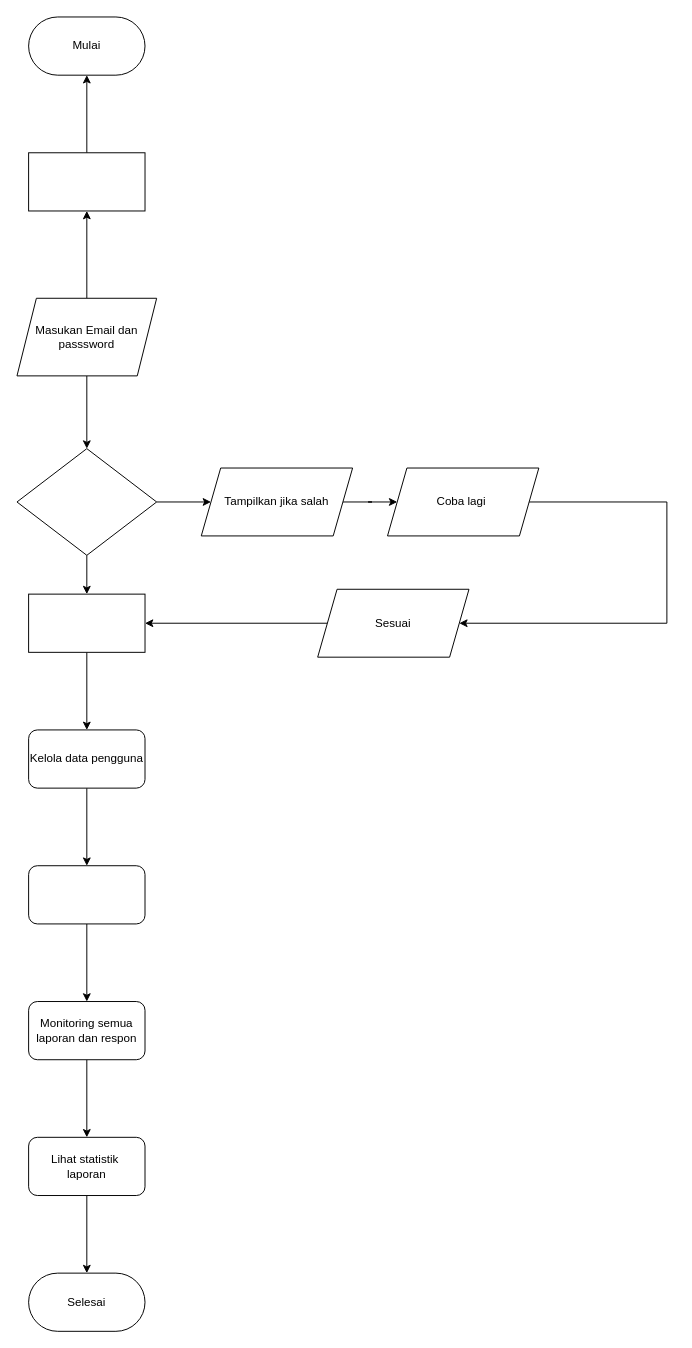
Some shapes in this 692 by 1348 pixel diagram are drawn without their labels. Here are the shapes that lost their labels. From the top down, the centre of each, then its label:
At point (86, 181): "Login".
At point (86, 501): "Apakah email dan password sesuai?".
At point (86, 622): "Ke halaman admin".
At point (86, 894): "Kelola ketegori laporan".
